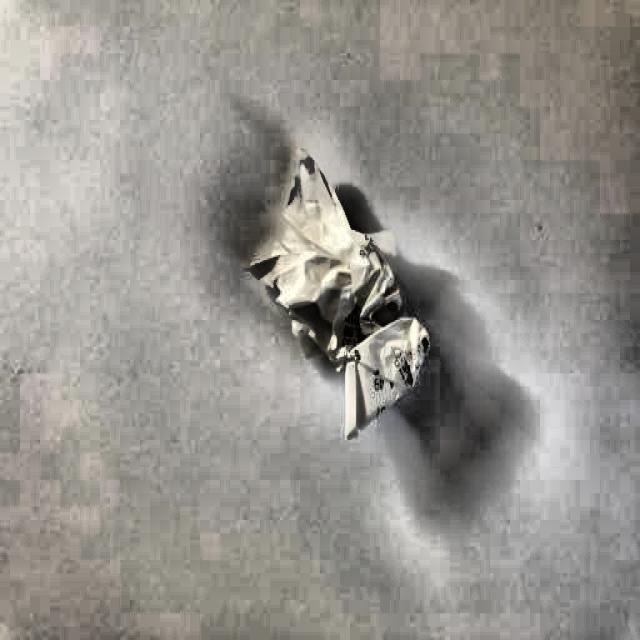paper: (240, 143, 428, 425)
